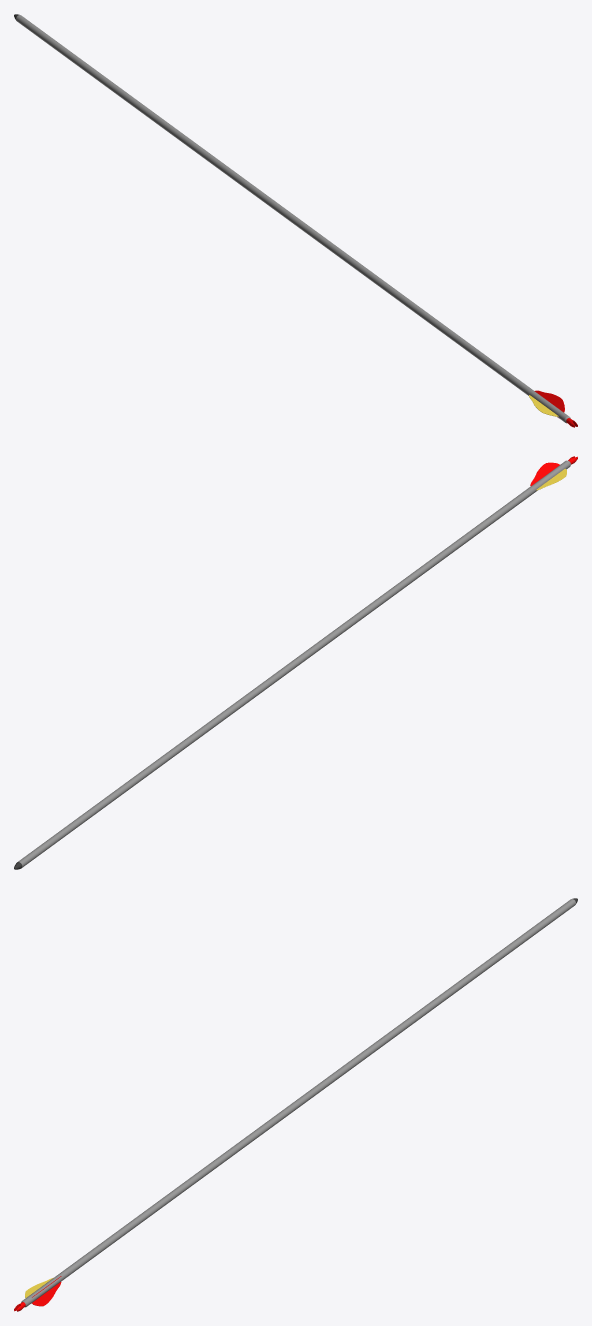
Rendered from Arrow.fbx.
3 views of the same model, one above another, from view 1: azimuth 30°, elevation 25°; view 2: azimuth 150°, elevation 25°; view 3: azimuth 330°, elevation 25° (orthographic).
Visible parts, largest first — view 1: Line03; view 2: Line03; view 3: Line03.
Part boxes in pixels (x1,y1,x2,y2): Line03: (14, 14, 577, 427); Line03: (14, 456, 577, 869); Line03: (14, 898, 577, 1311).
Size of the model in its own units: 4.97 by 4.58 by 239.
